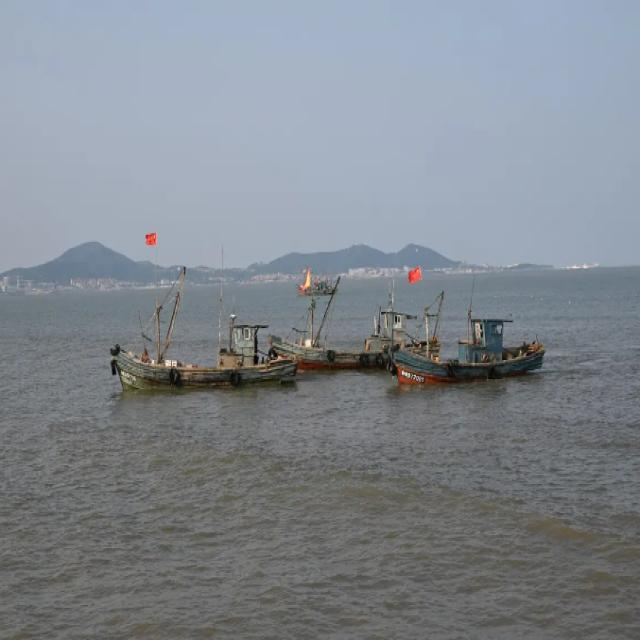fishing boat: (108, 270, 294, 392), (272, 288, 439, 371), (387, 302, 552, 386), (293, 265, 340, 295)
